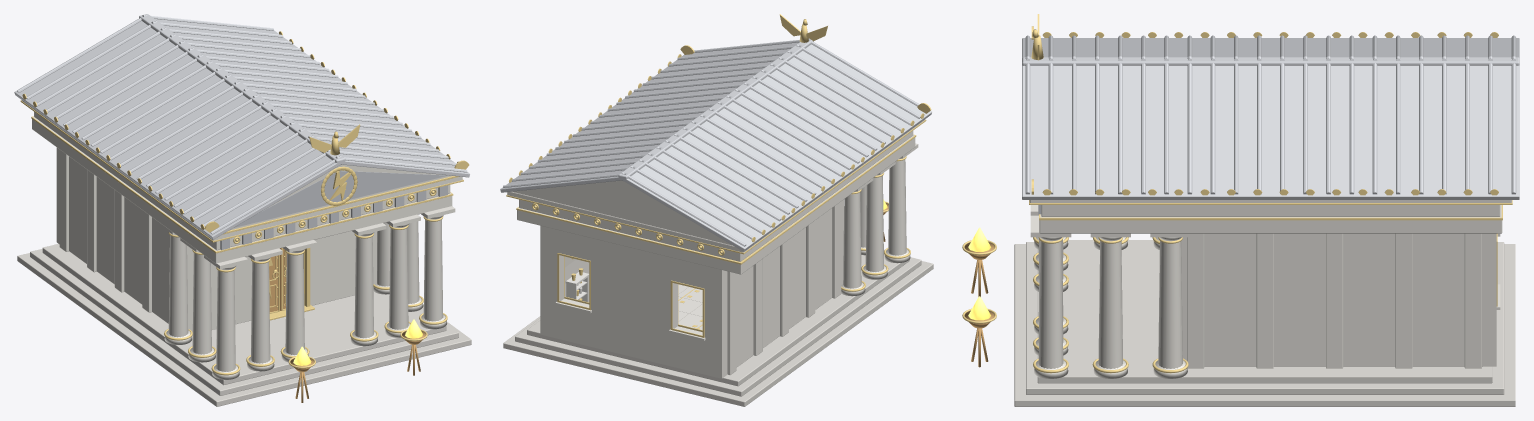
File: zeus_cabin.glb
3 renders of one model, left to right at view 1: azimuth 30°, elevation 25°; view 2: azimuth 150°, elevation 25°; view 3: azimuth 270°, elevation 25°, orthographic. The views are drawn at different scales.
Visible parts, largest first — view 1: ROOF_L, ROOF_R, STEP_2, WALL_side_L, STEP_0, ENT_architrave, STEP_1, PEDIMENT_tympanum, WALL_front_R, ENT_frieze, WALL_front_L, ROOF_ridge (+59 smaller); view 2: ROOF_L, ROOF_R, WALL_back_M, WALL_side_L, STEP_0, STEP_1, ENT_architrave, PEDIMENT_back, STEP_2, ENT_frieze, WALL_back_R, WALL_back_L (+41 smaller); view 3: ROOF_R, WALL_side_R, STEP_2, STEP_0, STEP_1, ROOF_L, ENT_architrave, ENT_frieze, ROOF_ridge, COL_9_shaft, COL_7_shaft, COL_5_shaft (+32 smaller).
Boxes of the visible parts, x1=… form: ROOF_L: x1=14, y1=20, x2=344, y2=239; ROOF_R: x1=155, y1=19, x2=469, y2=177; STEP_2: x1=42, y1=243, x2=446, y2=385; WALL_side_L: x1=57, y1=148, x2=193, y2=331; STEP_0: x1=17, y1=253, x2=471, y2=406; ENT_architrave: x1=32, y1=116, x2=452, y2=263; STEP_1: x1=30, y1=248, x2=458, y2=395; PEDIMENT_tympanum: x1=234, y1=171, x2=448, y2=227; WALL_front_R: x1=310, y1=231, x2=376, y2=305; ENT_frieze: x1=34, y1=112, x2=450, y2=250; WALL_front_L: x1=187, y1=245, x2=251, y2=330; ROOF_ridge: x1=139, y1=14, x2=345, y2=164; ROOF_L: x1=619, y1=42, x2=931, y2=251; ROOF_R: x1=500, y1=42, x2=798, y2=192; WALL_back_M: x1=589, y1=238, x2=677, y2=366; WALL_side_L: x1=713, y1=208, x2=832, y2=377; STEP_0: x1=503, y1=261, x2=933, y2=406; STEP_1: x1=515, y1=257, x2=921, y2=396; ENT_architrave: x1=517, y1=135, x2=915, y2=274; PEDIMENT_back: x1=513, y1=180, x2=732, y2=245; STEP_2: x1=527, y1=249, x2=909, y2=386; ENT_frieze: x1=519, y1=131, x2=913, y2=261; WALL_back_R: x1=540, y1=225, x2=564, y2=338; WALL_back_L: x1=703, y1=265, x2=726, y2=378; ROOF_R: x1=1022, y1=65, x2=1519, y2=199; WALL_side_R: x1=1183, y1=233, x2=1495, y2=366; STEP_2: x1=1037, y1=240, x2=1492, y2=383; STEP_0: x1=1014, y1=244, x2=1515, y2=406; STEP_1: x1=1026, y1=242, x2=1504, y2=394; ROOF_L: x1=1022, y1=38, x2=1519, y2=62; ENT_architrave: x1=1039, y1=205, x2=1502, y2=233; ENT_frieze: x1=1041, y1=205, x2=1500, y2=216; ROOF_ridge: x1=1022, y1=57, x2=1519, y2=65; COL_9_shaft: x1=1158, y1=241, x2=1182, y2=368; COL_7_shaft: x1=1098, y1=241, x2=1122, y2=368; COL_5_shaft: x1=1038, y1=241, x2=1063, y2=368.
Size of what is drawn, in the model's own units: 9.94 by 8.58 by 14.45.
